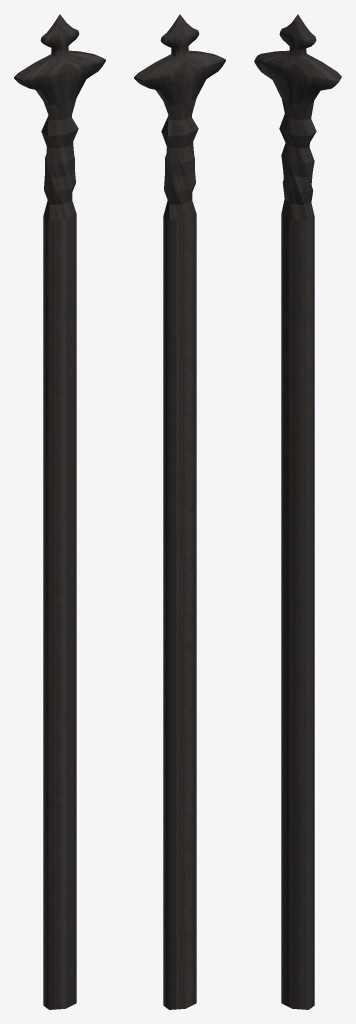
The model's file is pr_fpost.glb.
The picture shows the model from 3 angles, left to right: view 1: azimuth 30°, elevation 25°; view 2: azimuth 210°, elevation 25°; view 3: azimuth 330°, elevation 25°; orthographic projection.
Visible parts, largest first — view 1: body|Metal; view 2: body|Metal; view 3: body|Metal.
Boxes of the visible parts, <box> form: body|Metal: <box>14,14,105,1009</box>; body|Metal: <box>134,14,225,1009</box>; body|Metal: <box>254,14,341,1009</box>.
Size of the model in its own units: 0.1468 by 1.6 by 0.0387.
1 material, 1 textured.
